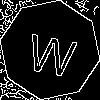W: (25, 25, 80, 78)
